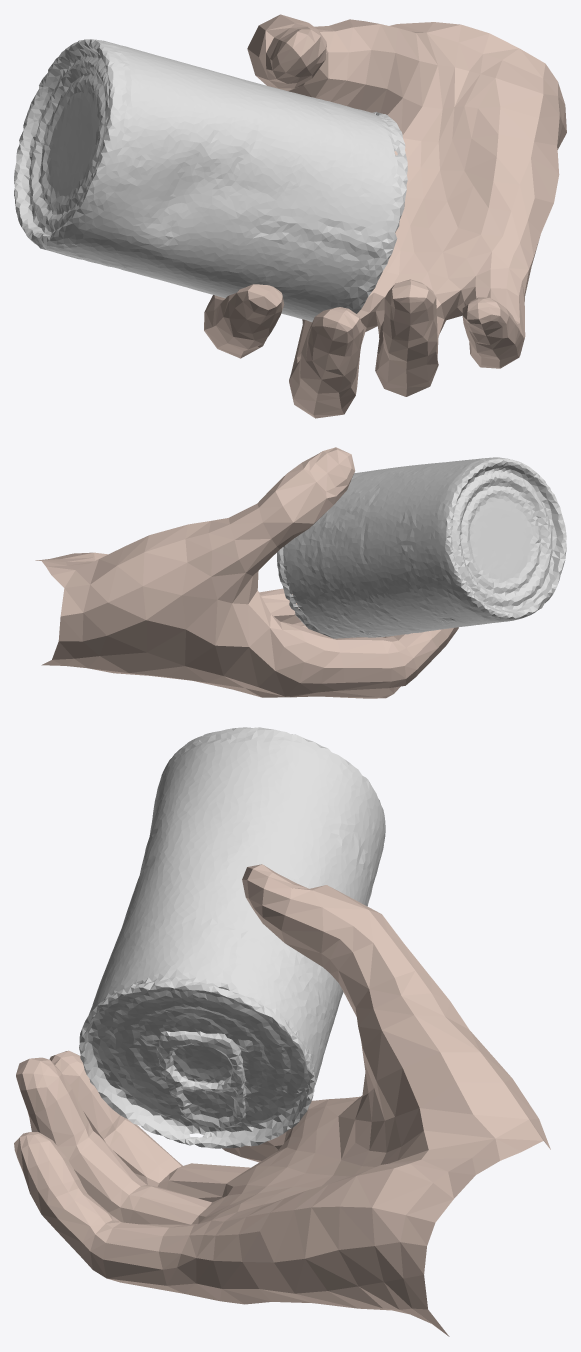
Rendered from mano_and_object_batch1_frame0.glb.
3 views of the same model, one above another, from view 1: azimuth 30°, elevation 25°; view 2: azimuth 150°, elevation 25°; view 3: azimuth 270°, elevation 25° (orthographic). The views are drawn at different scales.
Visible parts, largest first — view 1: world, mano; view 2: mano, world; view 3: mano, world.
Part boxes in pixels (x1=…): world: x1=14, y1=39, x2=407, y2=322; mano: x1=204, y1=14, x2=566, y2=418; mano: x1=35, y1=447, x2=458, y2=698; world: x1=277, y1=457, x2=566, y2=638; mano: x1=14, y1=864, x2=550, y2=1336; world: x1=79, y1=727, x2=385, y2=1148.
Size of the model in its own units: 0.2402 by 0.1425 by 0.1725.
